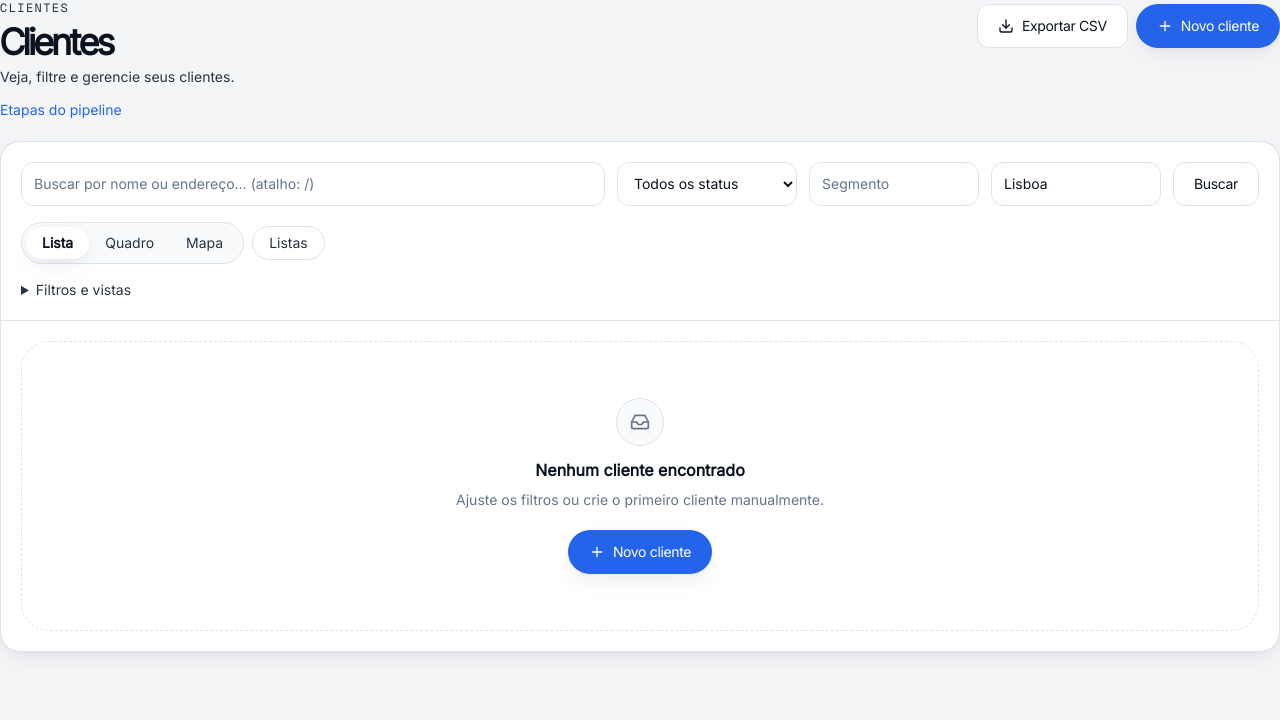
Test: LeadsPage saved views › lets a member duplicate a team view they cannot edit
Step 1. Click the heading "Filtros e vistas" → (83,289), box 36,281 -> 131,298
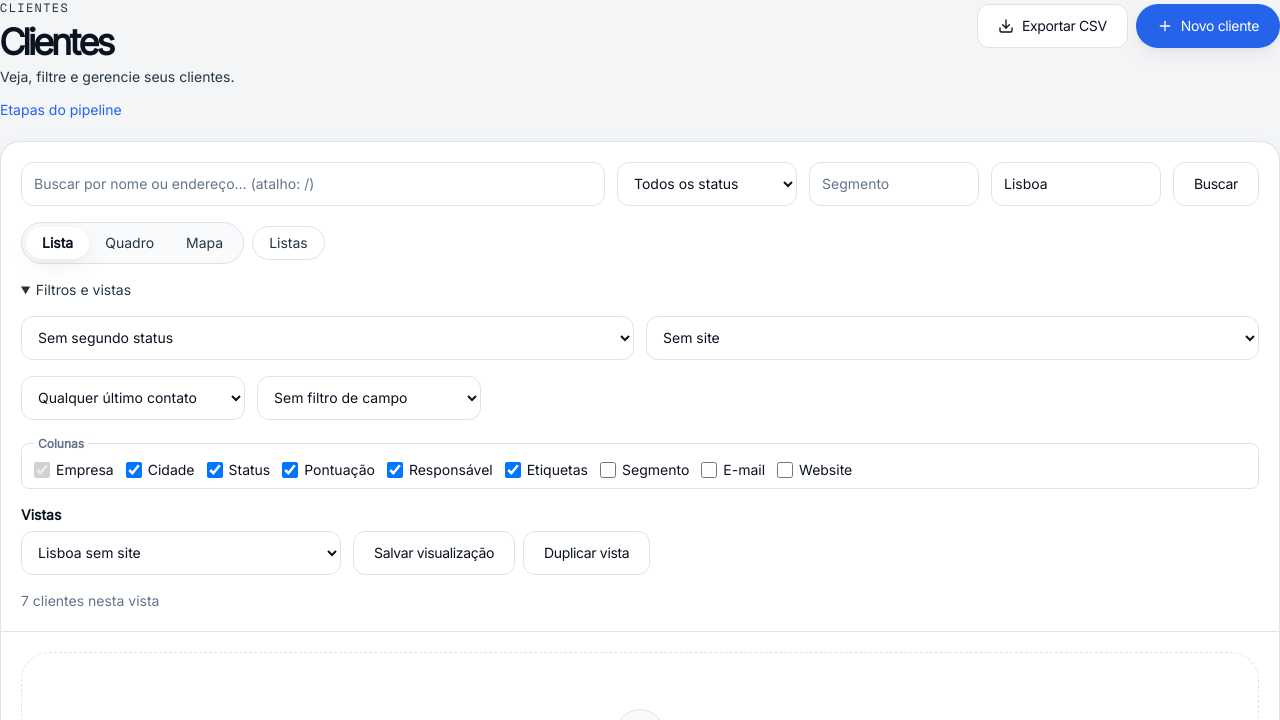
Expected: the button "Duplicar vista" is shown, 523,531 -> 650,575
